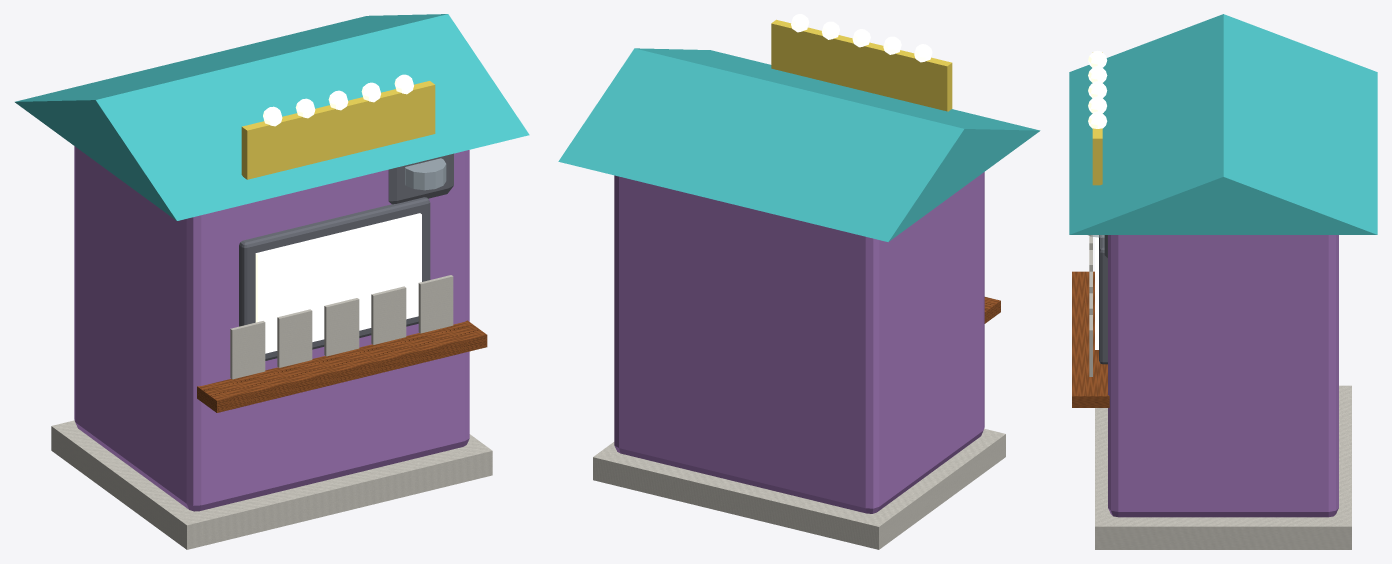
Rendered from theme-park-rides-and-coasters-theme-park-rides-and-coa-b97b5d96__28692.glb.
3 views of the same model, side by side, from view 1: azimuth 30°, elevation 25°; view 2: azimuth 150°, elevation 25°; view 3: azimuth 270°, elevation 25° (orthographic). The views are drawn at different scales.
Parts seen in each view (by area): view 1: theme-park-rides-and-coasters-photo-booth; view 2: theme-park-rides-and-coasters-photo-booth; view 3: theme-park-rides-and-coasters-photo-booth.
Boxes of the visible parts, <box> form: theme-park-rides-and-coasters-photo-booth: <box>15,14,529,549</box>; theme-park-rides-and-coasters-photo-booth: <box>558,14,1040,549</box>; theme-park-rides-and-coasters-photo-booth: <box>1069,14,1377,549</box>.
Size of the model in its own units: 3 by 3.42 by 2.4.
8 materials, 2 textured.
